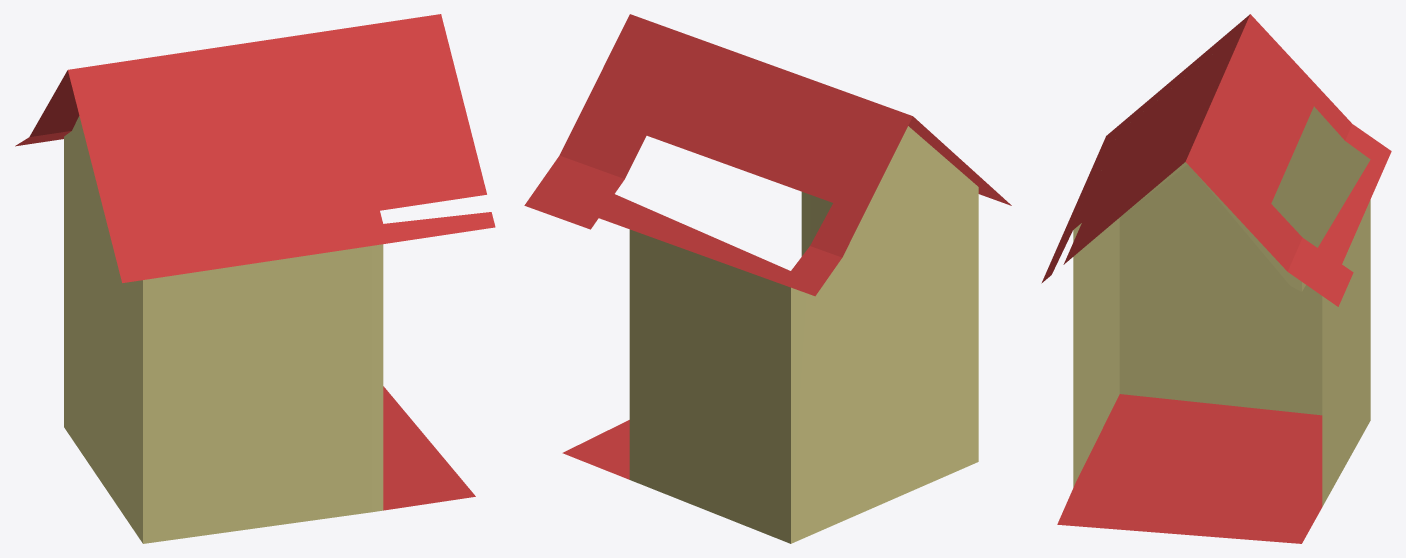
The picture shows the model from 3 angles, left to right: view 1: azimuth 30°, elevation 25°; view 2: azimuth 150°, elevation 25°; view 3: azimuth 270°, elevation 25°; orthographic projection. The views are drawn at different scales.
Size of the model in its own units: 14.8 by 12.81 by 15.27.
